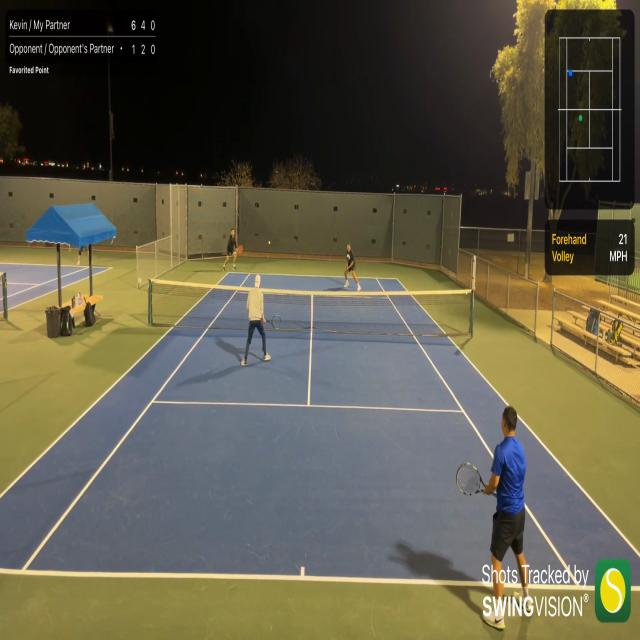ball: (268, 240, 270, 245)
